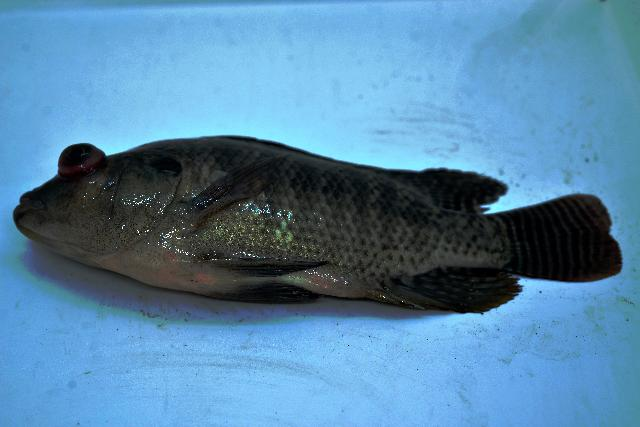Streptococcus: (14, 137, 621, 312), (14, 138, 621, 312)
